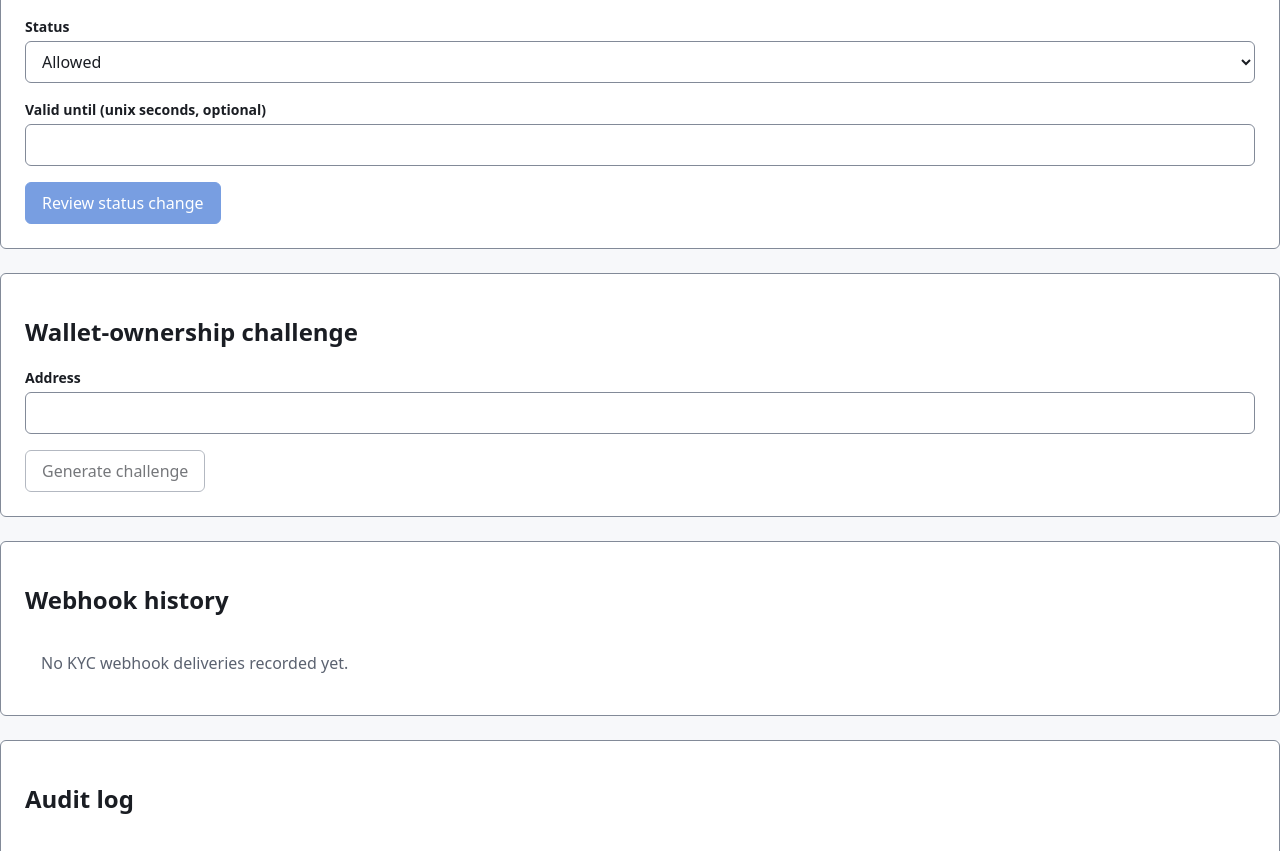
Compliance ownership challenge › requests a challenge for the address and shows nonce, message and expiry
(page scrolled)
Type "0x1234567890123456789012345678901234567890" into the field labelled "Address" below "Wallet-ownership challenge" at (640, 413), box [25,392,1255,434]
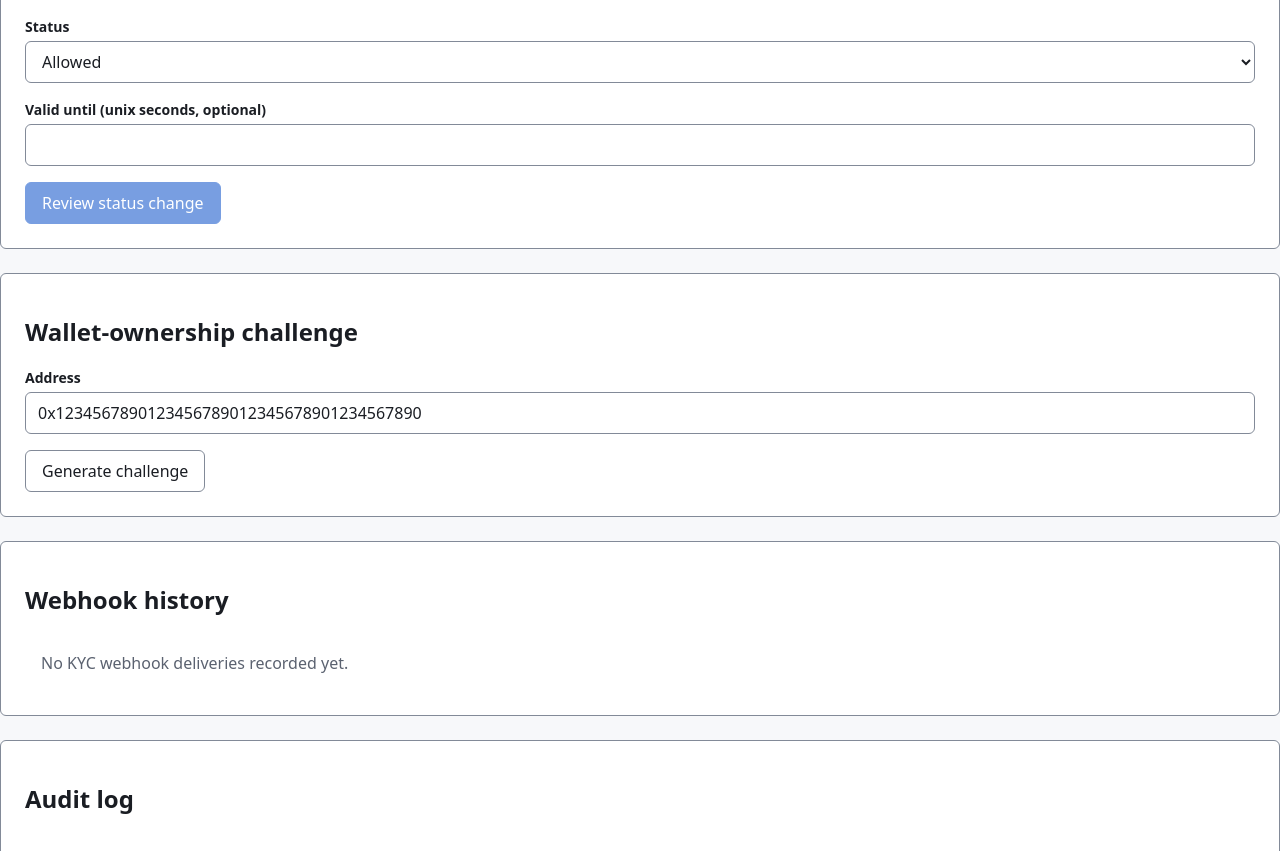
Click the button "Generate challenge" at (115, 471), box [25,450,205,492]
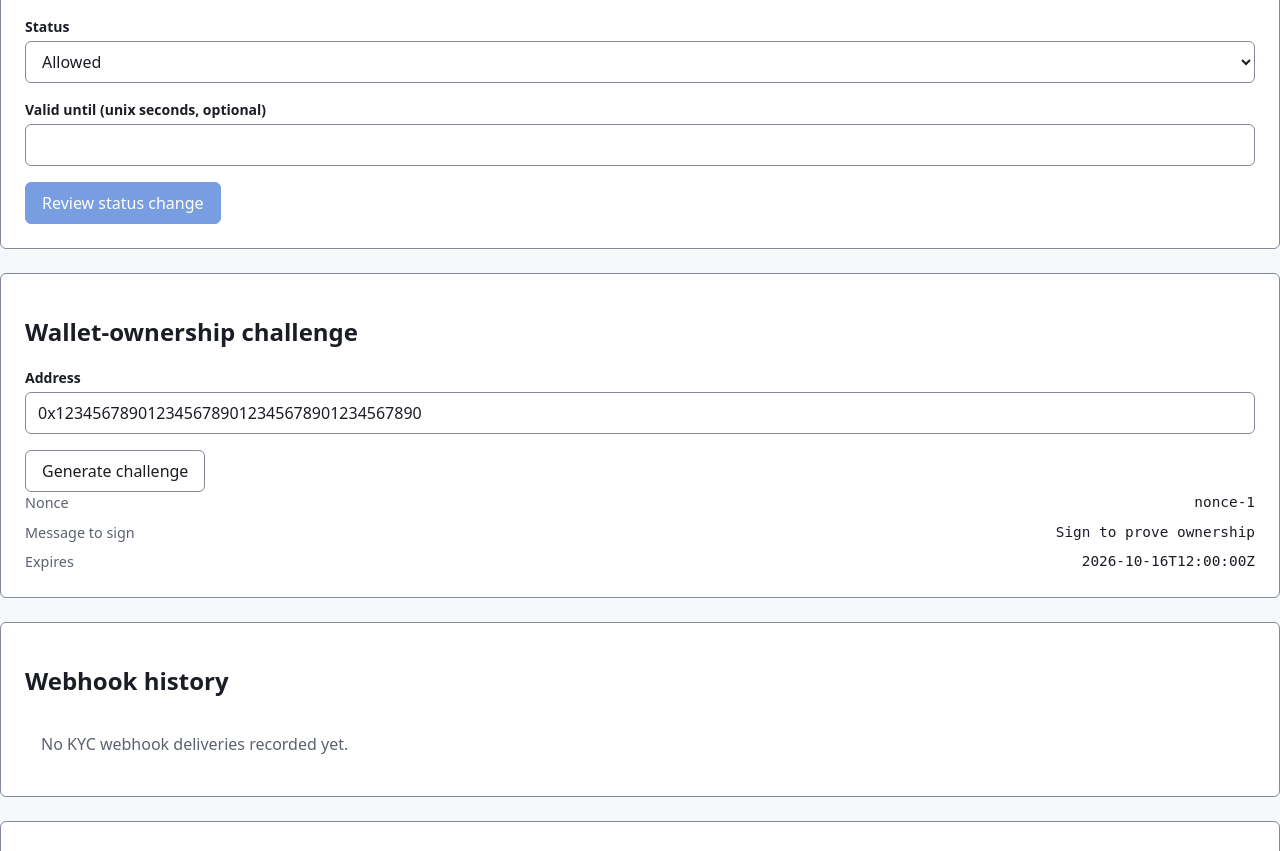
Expected: the text "nonce-1" is shown, [1194,492,1255,514]
Expected: the text "Sign to prove ownership" is shown, [1056,522,1255,543]
Expected: the text "2026-10-16T12:00:00Z" is shown, [1082,551,1255,573]
